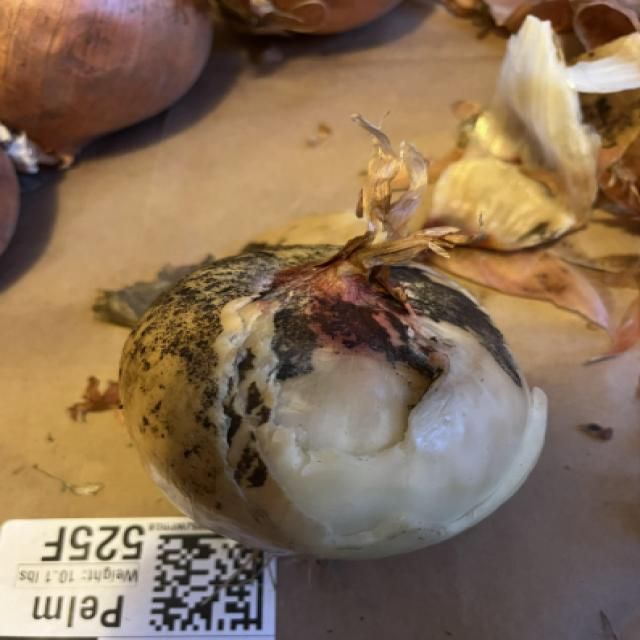mechanical_damage: (123, 234, 542, 557)
